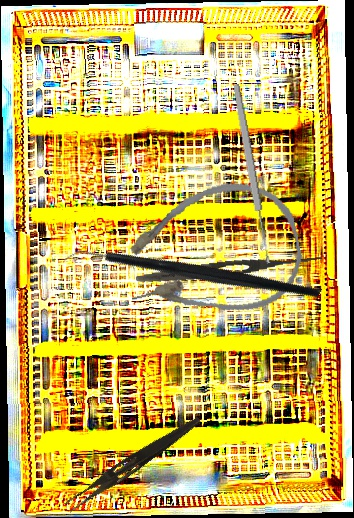Cannula: (112, 170, 311, 335)
Chopper: (62, 170, 322, 383)
Dressing Forceps: (63, 409, 203, 518), (134, 248, 326, 288)
Surgical Spoon: (231, 83, 273, 265)
